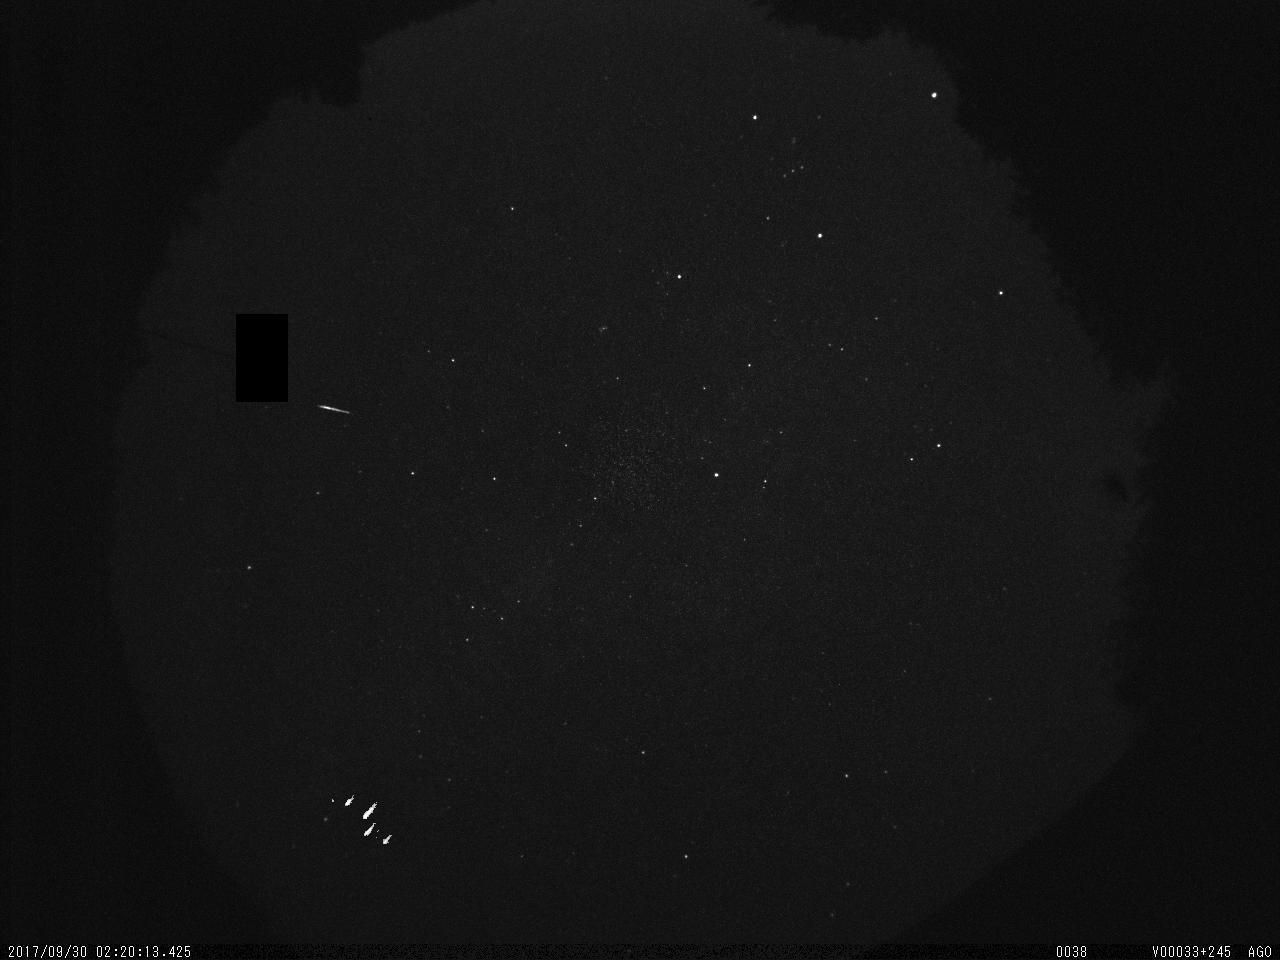TLE: (331, 788, 406, 853)
